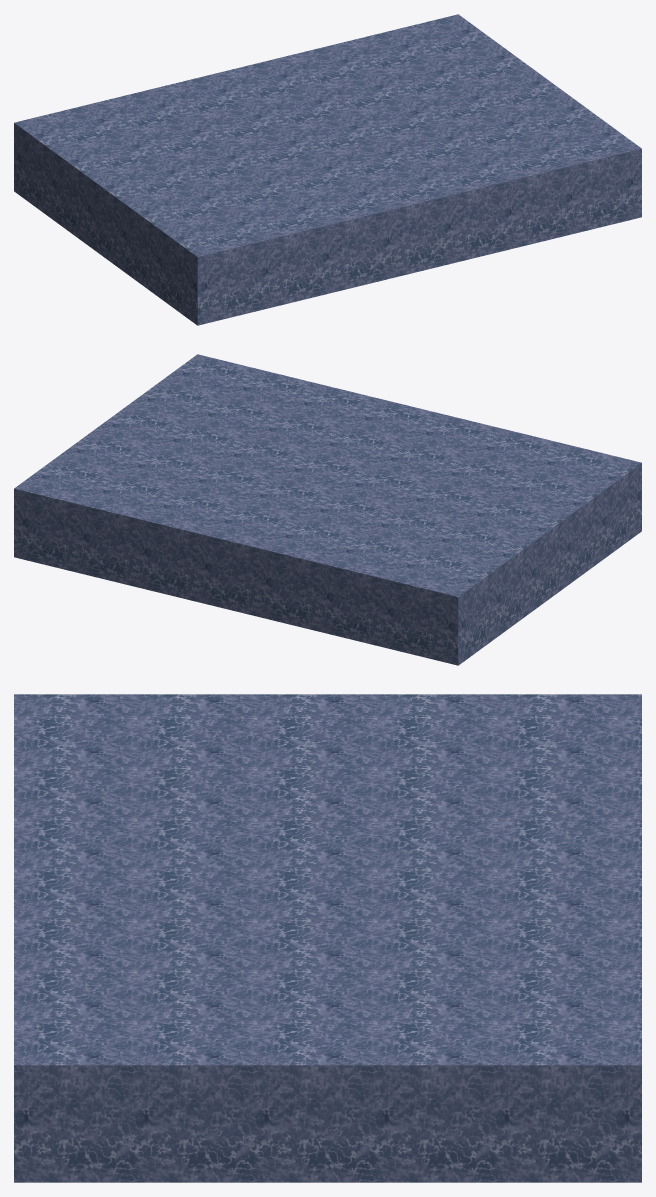
The model's file is WaterP.glb.
3 views of the same model, one above another, from view 1: azimuth 30°, elevation 25°; view 2: azimuth 150°, elevation 25°; view 3: azimuth 270°, elevation 25° (orthographic). The views are drawn at different scales.
Parts seen in each view (by area): view 1: WaterP; view 2: WaterP; view 3: WaterP.
Boxes of the visible parts, <box> form: WaterP: <box>14,14,641,325</box>; WaterP: <box>14,354,641,665</box>; WaterP: <box>14,694,641,1182</box>.
Size of the model in its own units: 935 by 138 by 669.
1 material, 1 textured.
